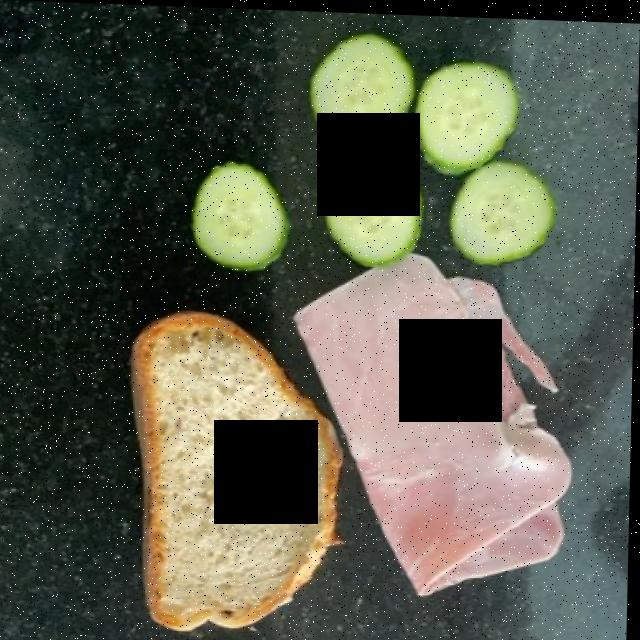bread-white: (140, 297, 343, 634)
cucumber: (199, 25, 566, 284)
ham: (299, 262, 569, 608)
